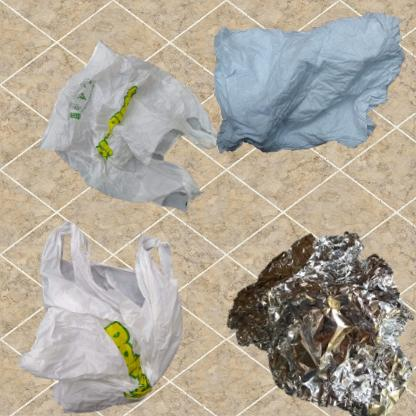aluminio: (213, 213, 416, 416)
bolsa: (10, 10, 257, 265), (10, 213, 212, 416)
papel: (213, 10, 406, 154)
